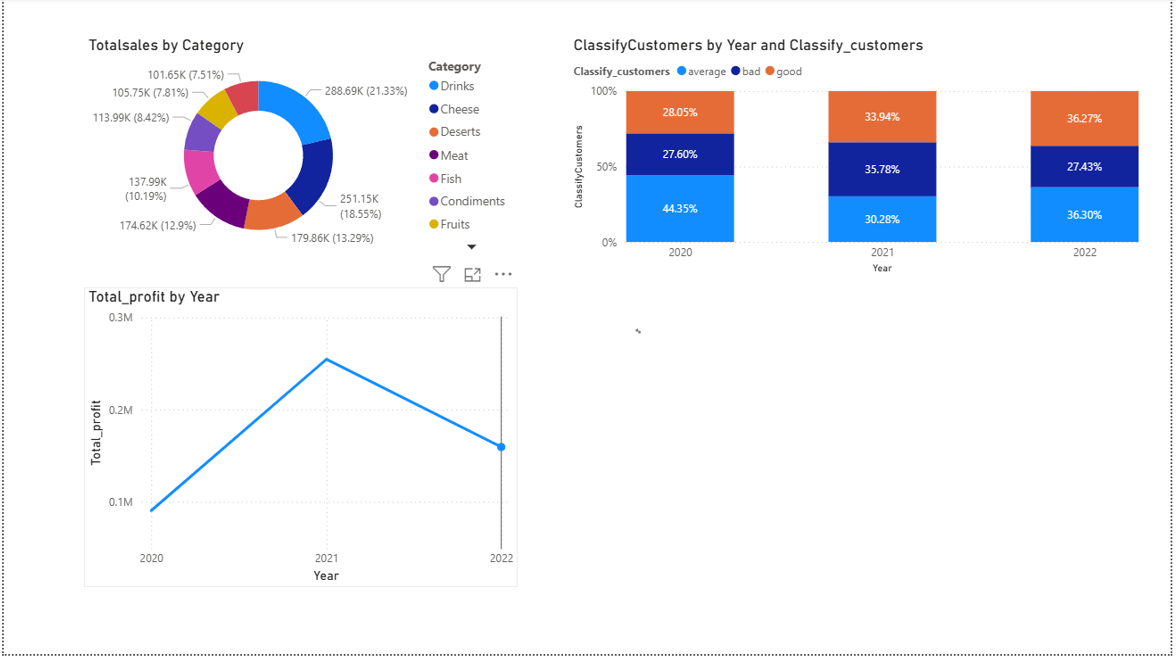

What the dashboard file says about the page in this screenshot:
{"tool":"powerbi","page":{"name":"Executive Dashboard","canvas":[1280,720],"ordinal":6},"visuals":[{"type":"donutChart","fields":{"Y":["Measures_tbl.Totalsales"],"Category":["Order_tbl.Category"]},"box":[88,41.6,475.7,244.6],"z":0},{"type":"lineChart","fields":{"Y":["Measures_tbl.Total_profit"],"Category":["Dates_tbl.Date.Variation.Date Hierarchy.Year"]},"box":[87.8,317.6,475.7,329.7],"z":1000},{"type":"hundredPercentStackedColumnChart","fields":{"Category":["Dates_tbl.Date.Variation.Date Hierarchy.Year"],"Y":["Measures_tbl.ClassifyCustomers"],"Series":["Customer classification.Classify_customers"]},"box":[620,41.6,629.8,266.6],"z":2000},{"type":"textbox","box":[677.4,359.5,572.3,277.6],"z":3000}]}

Visuals, with their boxes in screenshot pixels (x1, y1, x2, y2), scaled from the page's 1280x720 canvas onto the 1176x660 screenshot:
donutChart - Measures_tbl.Totalsales x Order_tbl.Category: BBox(81, 38, 518, 262)
lineChart - Measures_tbl.Total_profit x Dates_tbl.Date.Variation.Date Hierarchy.Year: BBox(81, 291, 518, 593)
hundredPercentStackedColumnChart - Dates_tbl.Date.Variation.Date Hierarchy.Year x Measures_tbl.ClassifyCustomers: BBox(570, 38, 1148, 283)
textbox: BBox(622, 330, 1148, 584)
